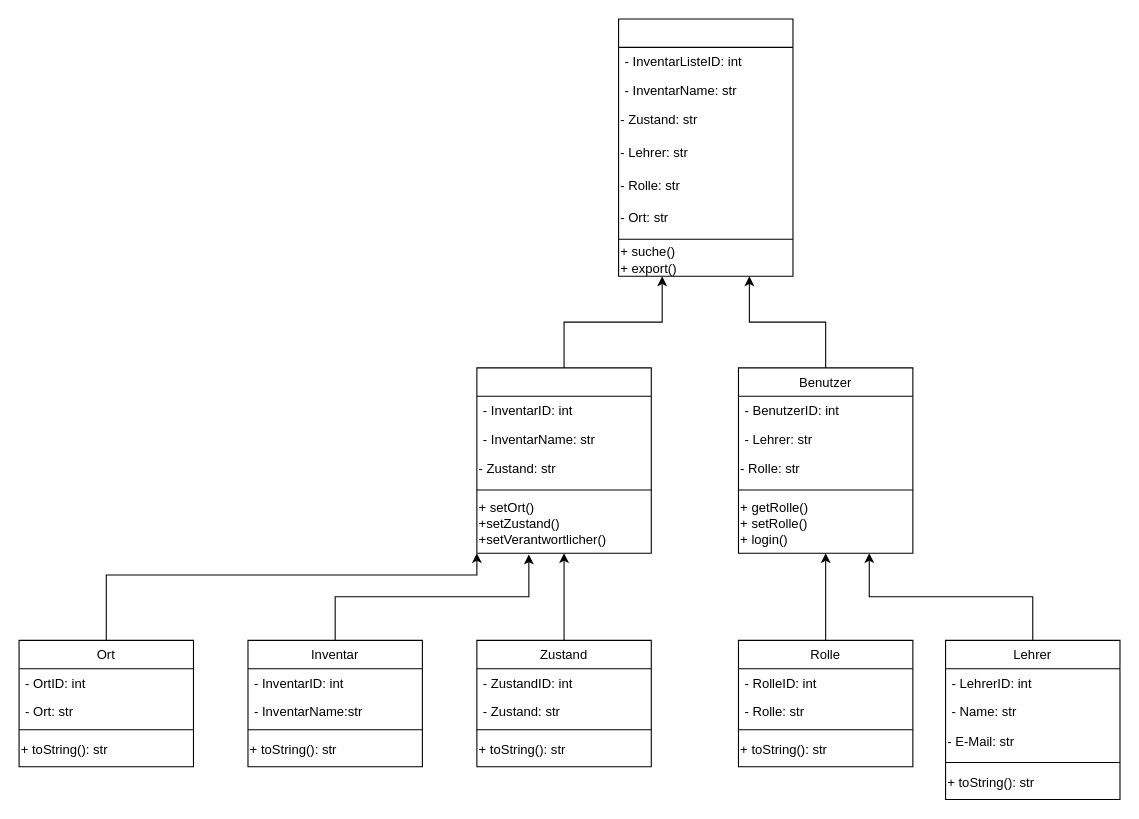
This 1139x819 diagram has some shape labels left out. The box of each missing label's shape, as (x1, y1, x2, y2) in pixels:
Inventargegenstand: (476, 367, 651, 553)
InventarService: (617, 18, 793, 276)
